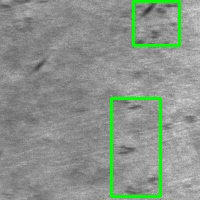rolled-in_scale: (111, 98, 160, 196), (133, 1, 179, 45)
